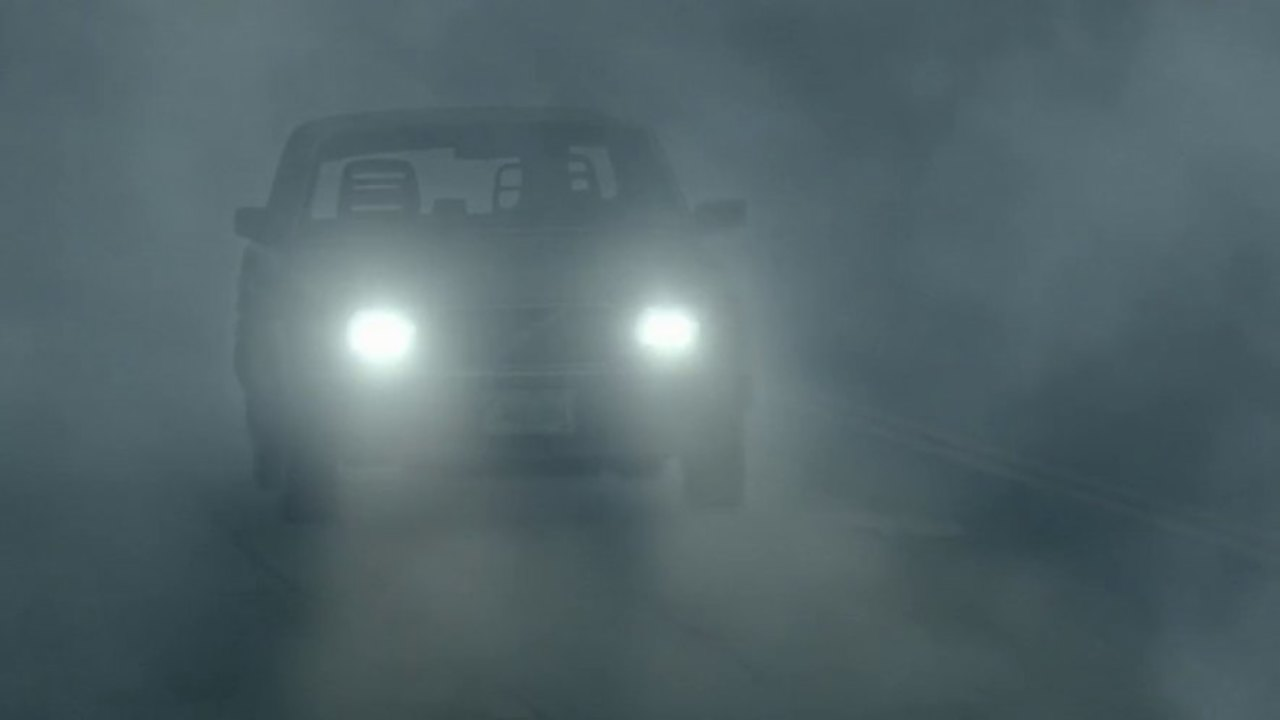car: (230, 111, 754, 524)
